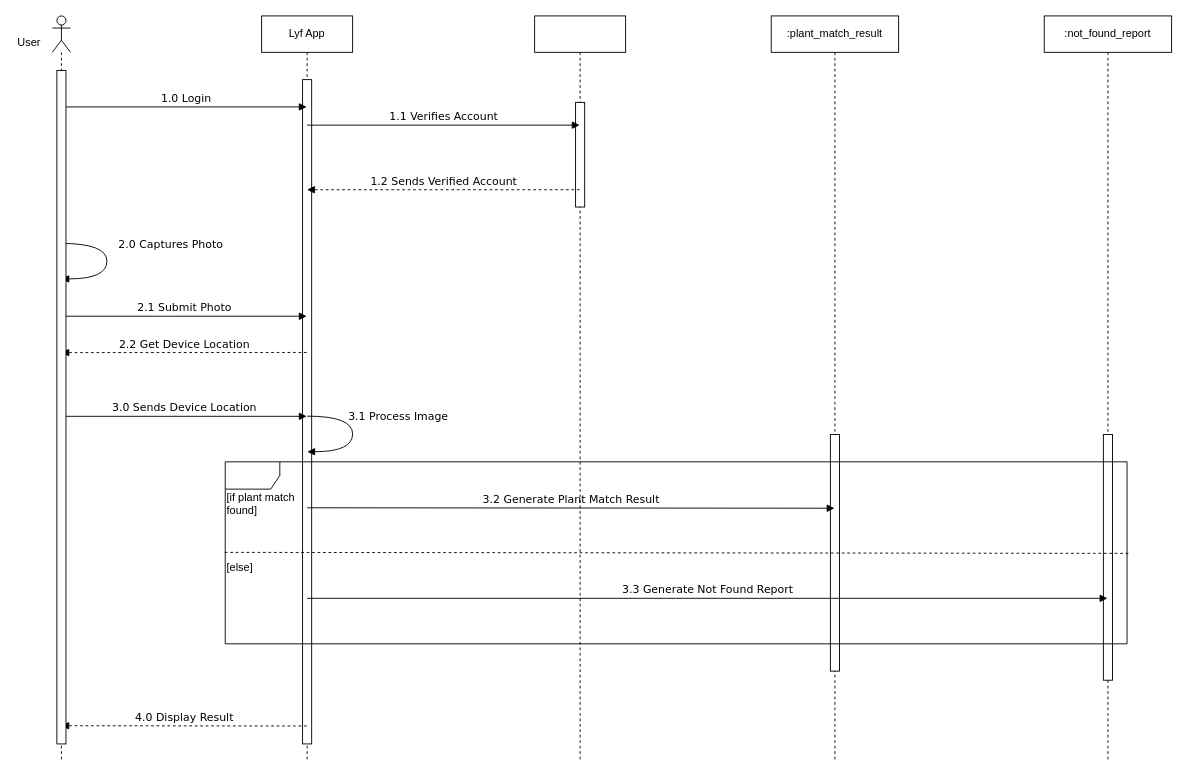
Some shapes in this 1188 by 778 pixel diagram are drawn without their labels. Each missing label, with the box of its shape:
:account: (534, 15, 626, 762)
alternative: (224, 461, 1127, 644)
